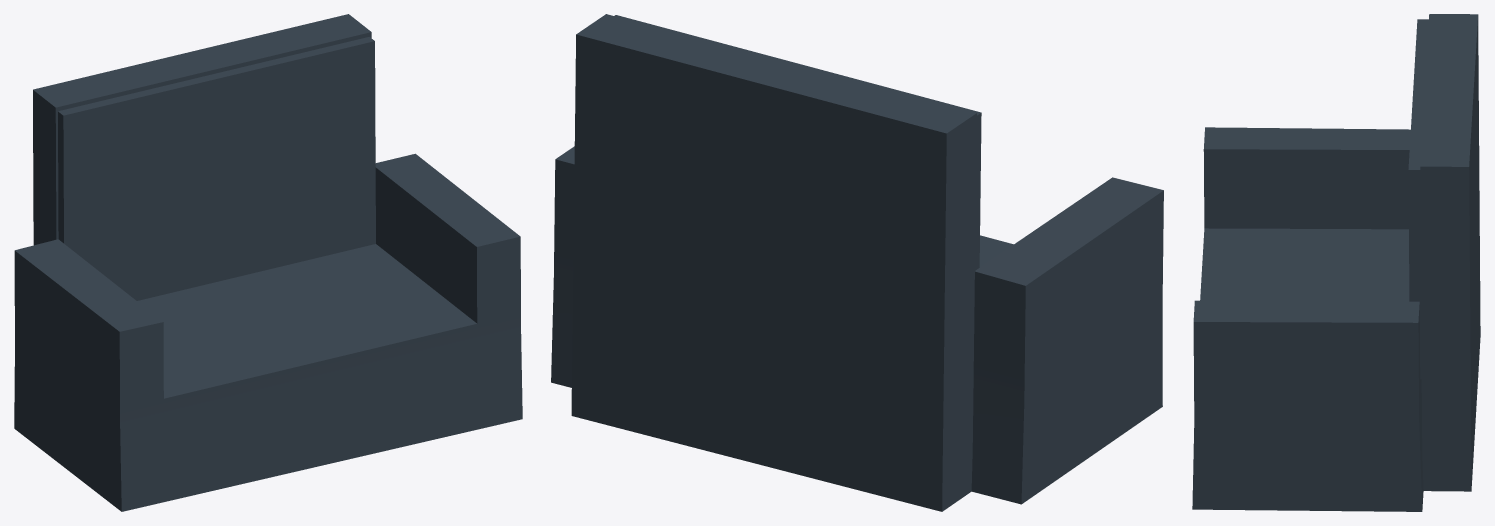
Rendered from Small_Couch.fbx.
3 views of the same model, side by side, from view 1: azimuth 30°, elevation 25°; view 2: azimuth 150°, elevation 25°; view 3: azimuth 270°, elevation 25° (orthographic). The views are drawn at different scales.
Visible parts, largest first — view 1: group2_pCube20; view 2: group2_pCube20; view 3: group2_pCube20.
Part boxes in pixels (x1,y1,x2,y2): group2_pCube20: (14, 14, 522, 511); group2_pCube20: (551, 14, 1163, 511); group2_pCube20: (1192, 14, 1480, 511).
Size of the model in its own units: 11.49 by 8.64 by 6.97.
